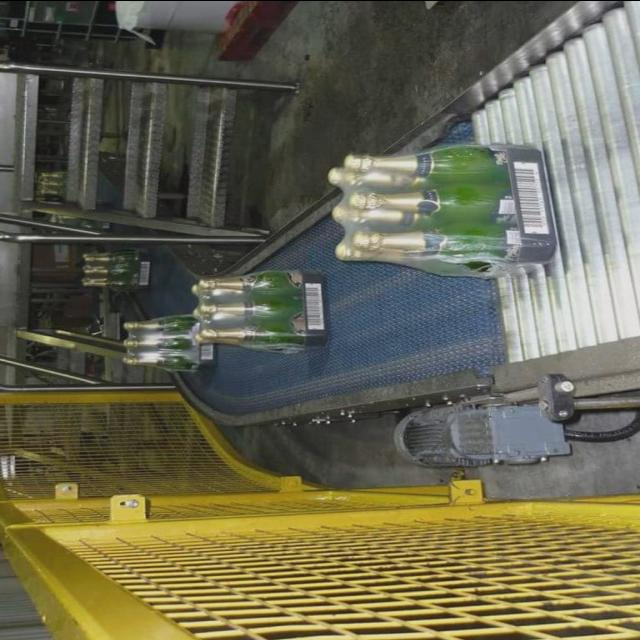bottle: (350, 220, 556, 266), (347, 180, 519, 224), (342, 142, 510, 182), (194, 318, 312, 354), (197, 268, 296, 294), (198, 294, 318, 314)
